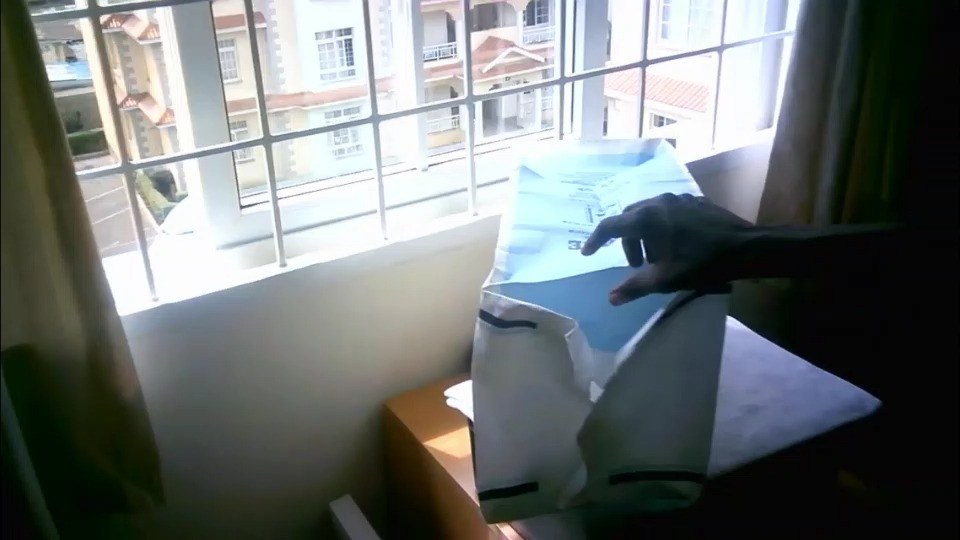wheat_flour_blue_label: (473, 138, 721, 505)
